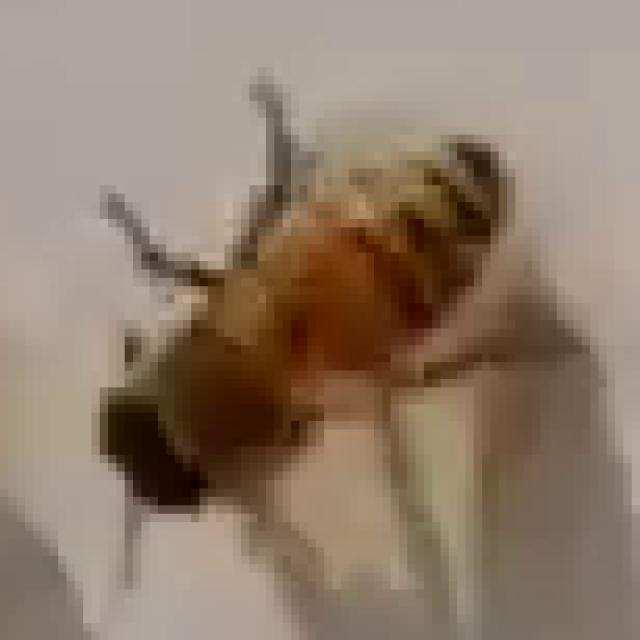honeybee: (81, 130, 525, 505)
